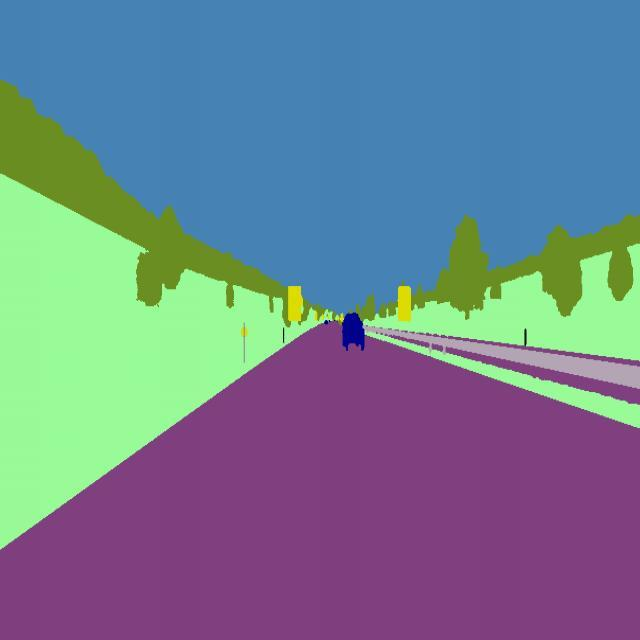safe: (339, 307, 368, 355)
